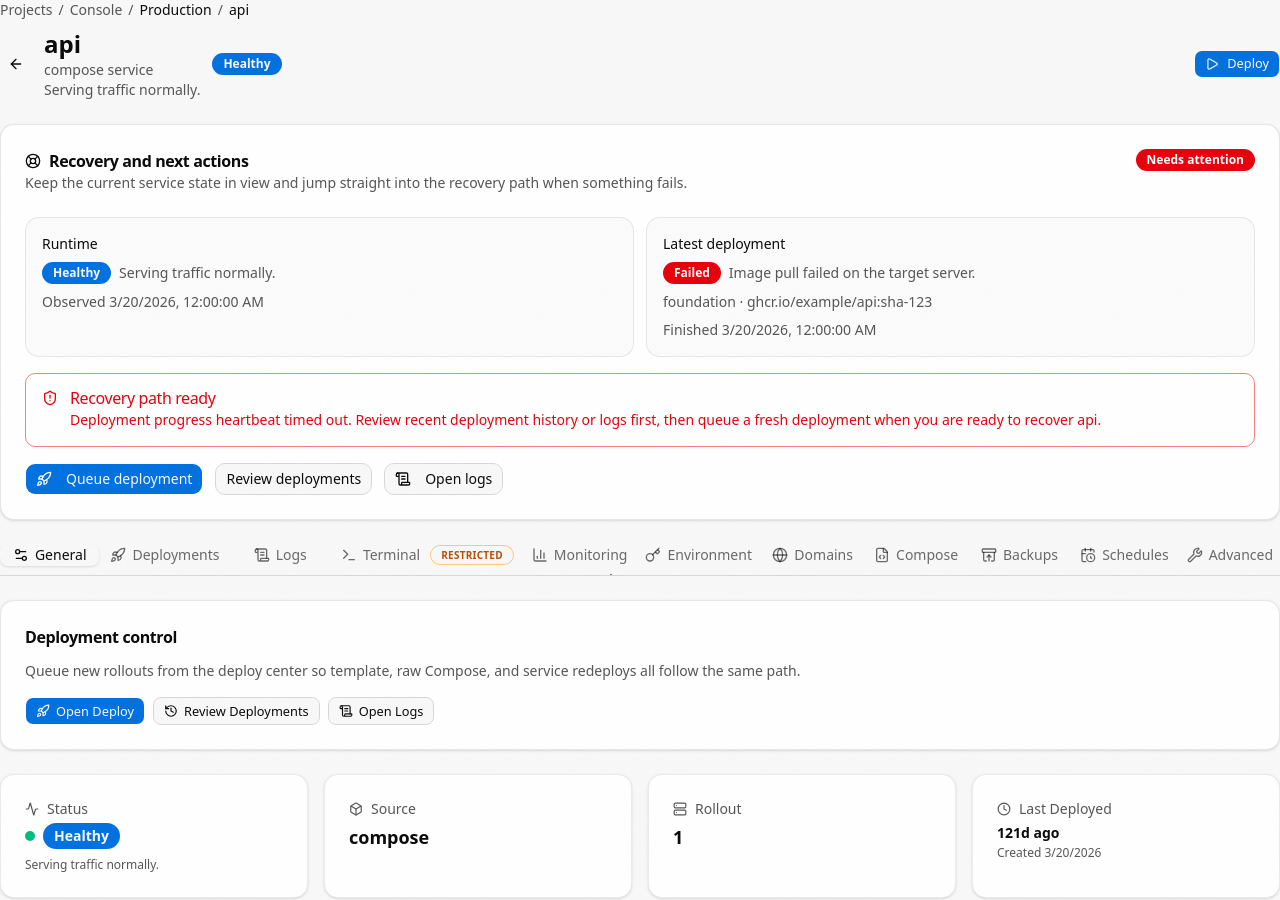
Test: ServiceDetailPage › explains terminal restrictions instead of opening a blocked terminal session
Expected: the text with test id "service-detail-terminal-restricted-badge" reads "Restricted", [441,548,503,562]
Click the tab with test id "service-detail-terminal-trigger" at (427, 555), box [334,544,521,566]
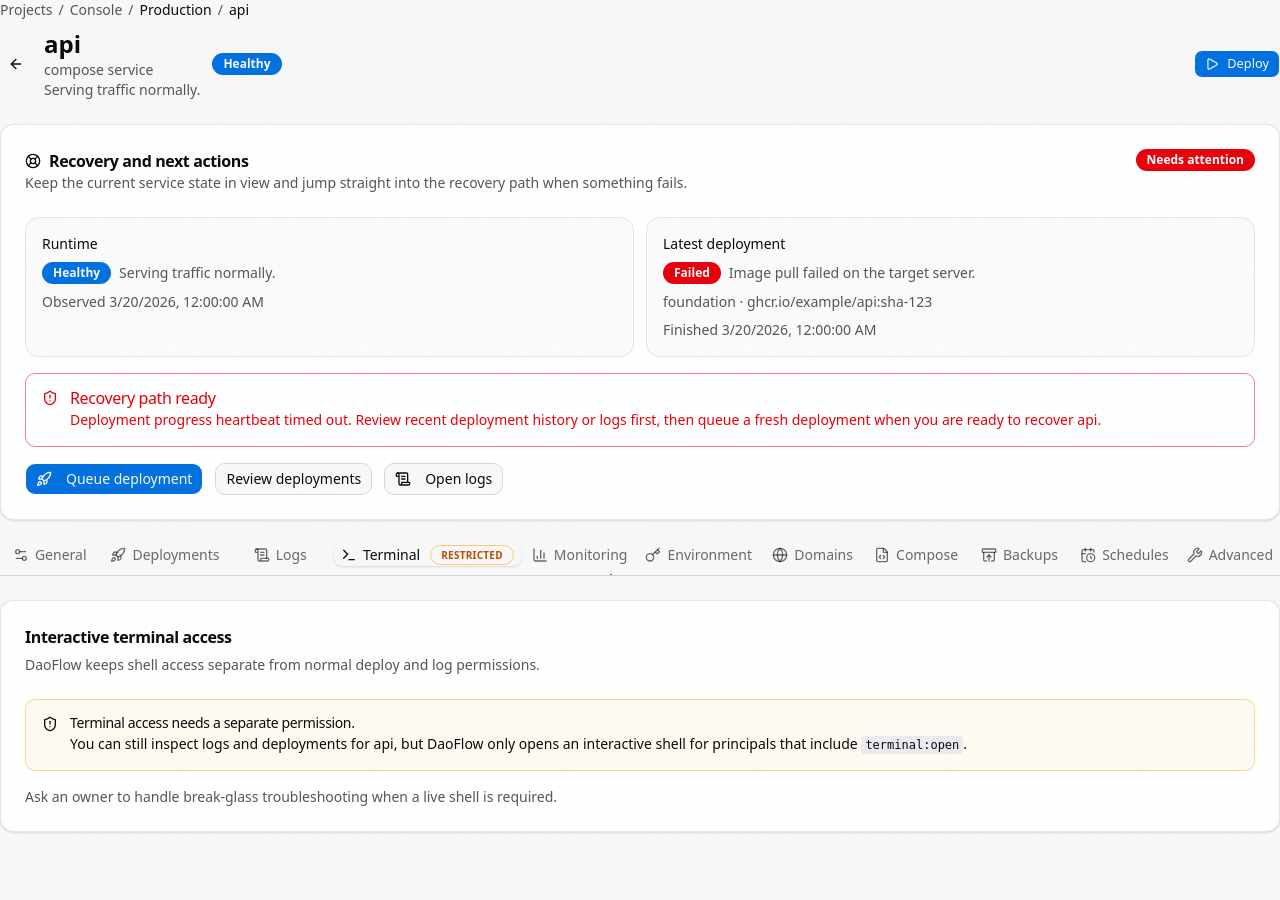
Expected: the message with test id "terminal-access-blocked-alert" shows "Terminal access needs a separate permission.", [70,713,355,732]
Expected: the text with test id "terminal-access-help" shows "Ask an owner to handle break-glass troubleshooting", [25,787,557,806]
